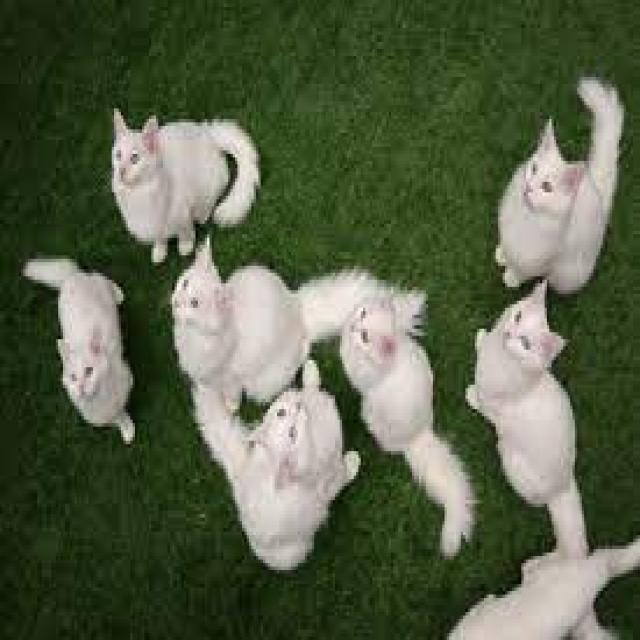Cat: (168, 234, 427, 415), (464, 275, 615, 540), (192, 358, 364, 578), (339, 296, 476, 561), (495, 70, 625, 298), (107, 100, 262, 266), (23, 254, 140, 453), (444, 535, 640, 636)
